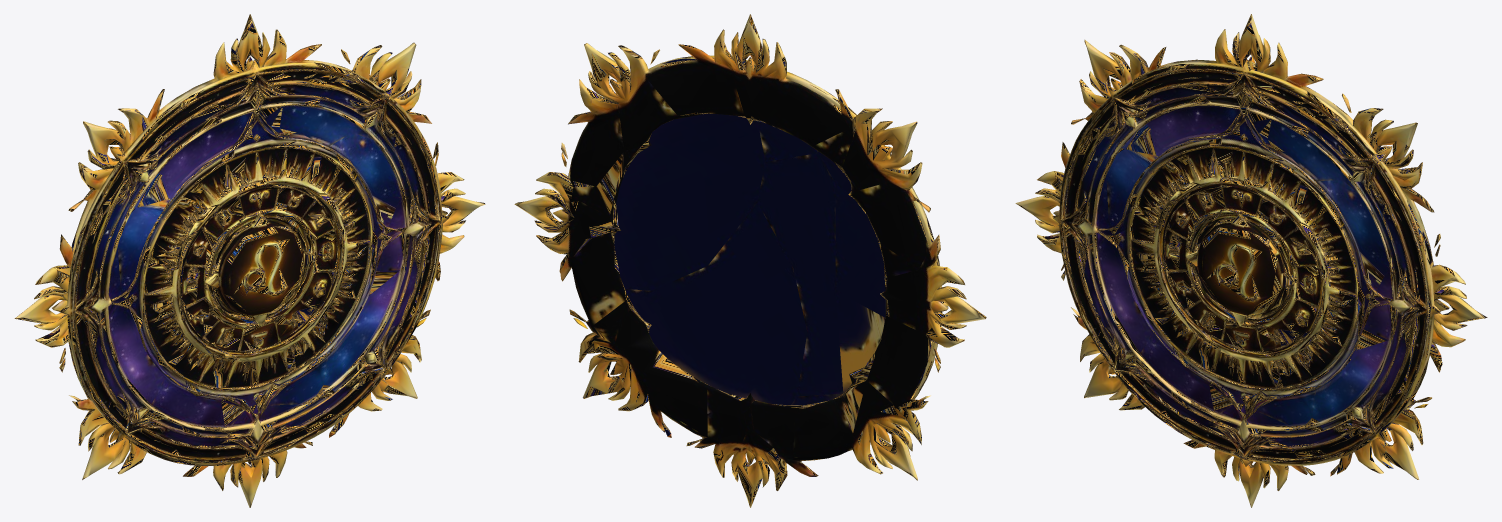
The model's file is Halo of the Leo Sovereign High.glb.
3 views of the same model, side by side, from view 1: azimuth 30°, elevation 25°; view 2: azimuth 150°, elevation 25°; view 3: azimuth 330°, elevation 25° (orthographic).
Visible parts, largest first — view 1: node_0; view 2: node_0; view 3: node_0.
Part boxes in pixels (x1,y1,x2,y2): node_0: (14,14,485,507); node_0: (514,14,986,507); node_0: (1015,14,1487,507).
Size of the model in its own units: 1.18 by 1.18 by 0.0732.
Materials: 1 (1 with a texture image).
